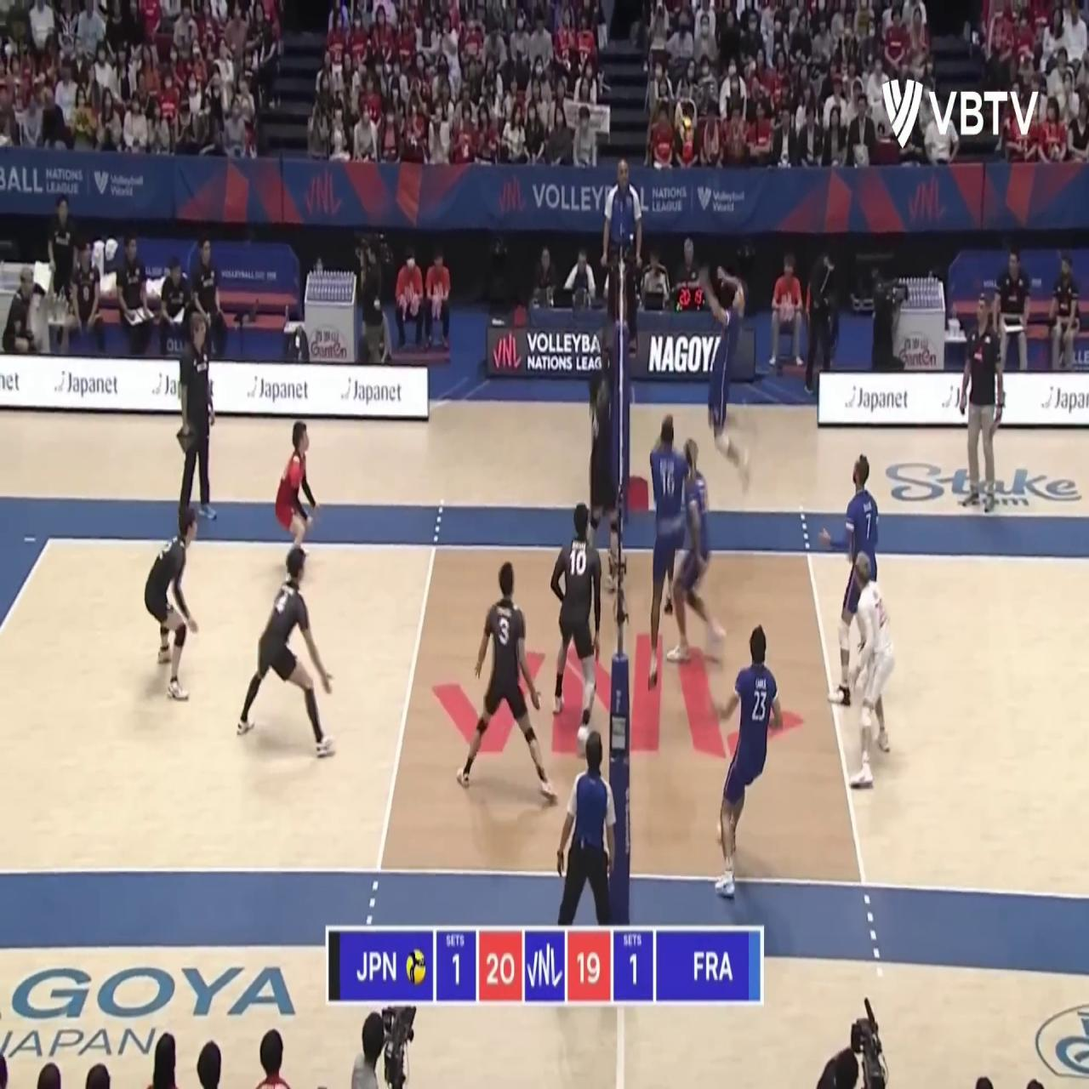ball: (679, 117, 693, 142)
